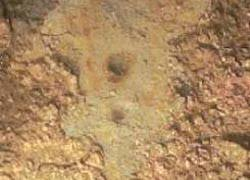rust: (163, 4, 250, 175), (2, 51, 94, 179), (101, 48, 137, 84)
